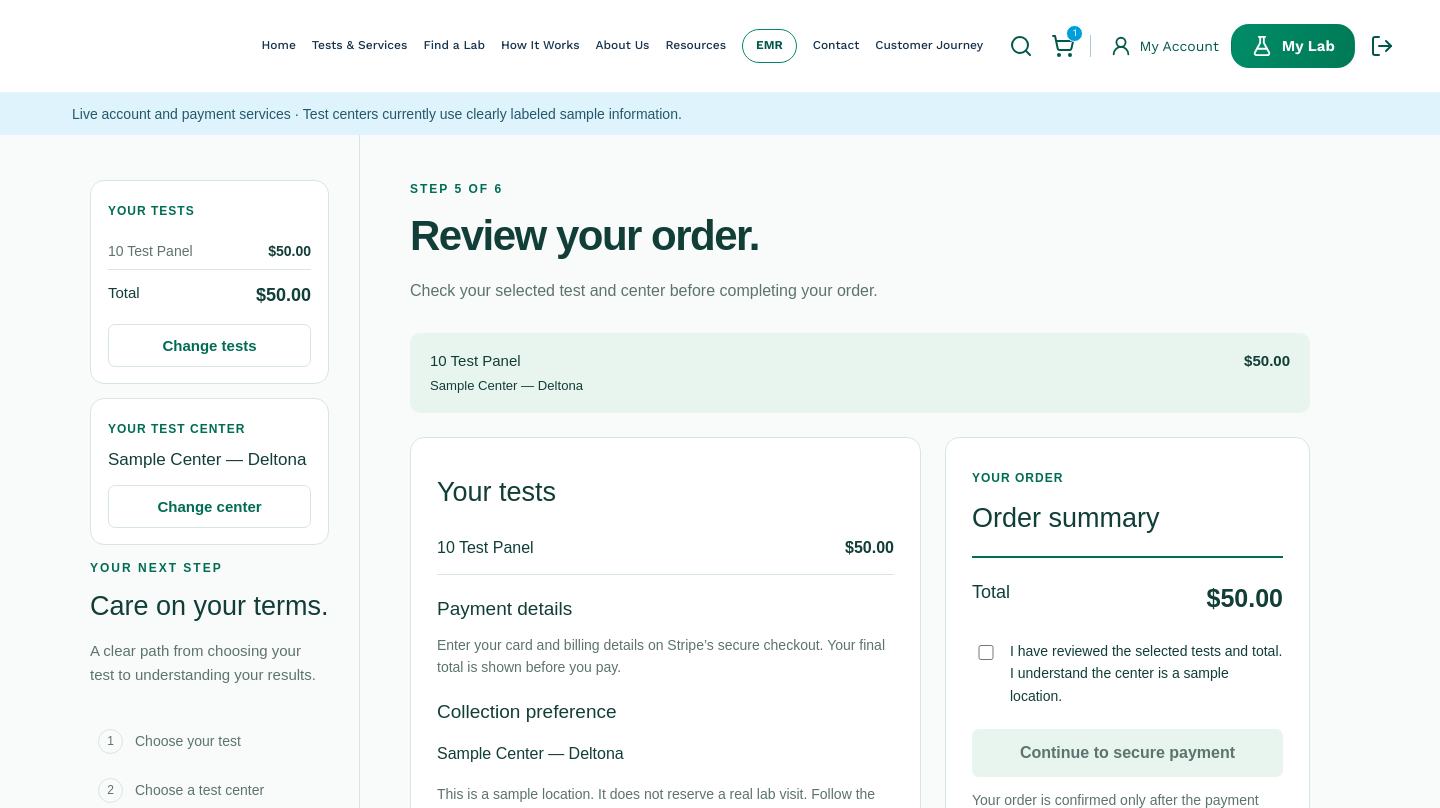
checkout requires another review after the price changes
Click the checkbox.
click(986, 652)  # box [977,645,995,660]
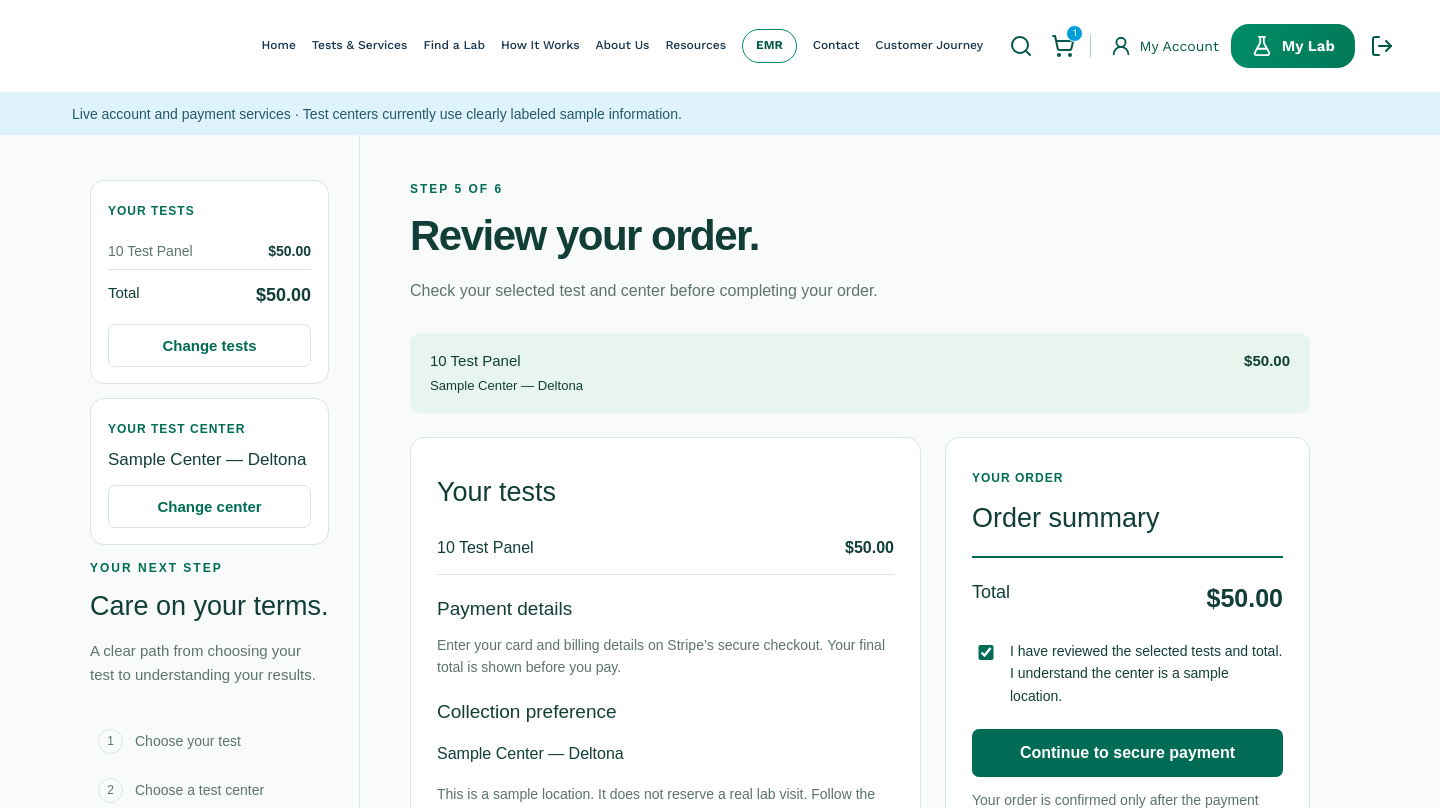
Click the button "Continue to secure payment".
click(1128, 753)  # box [972,729,1283,777]
(page scrolled)
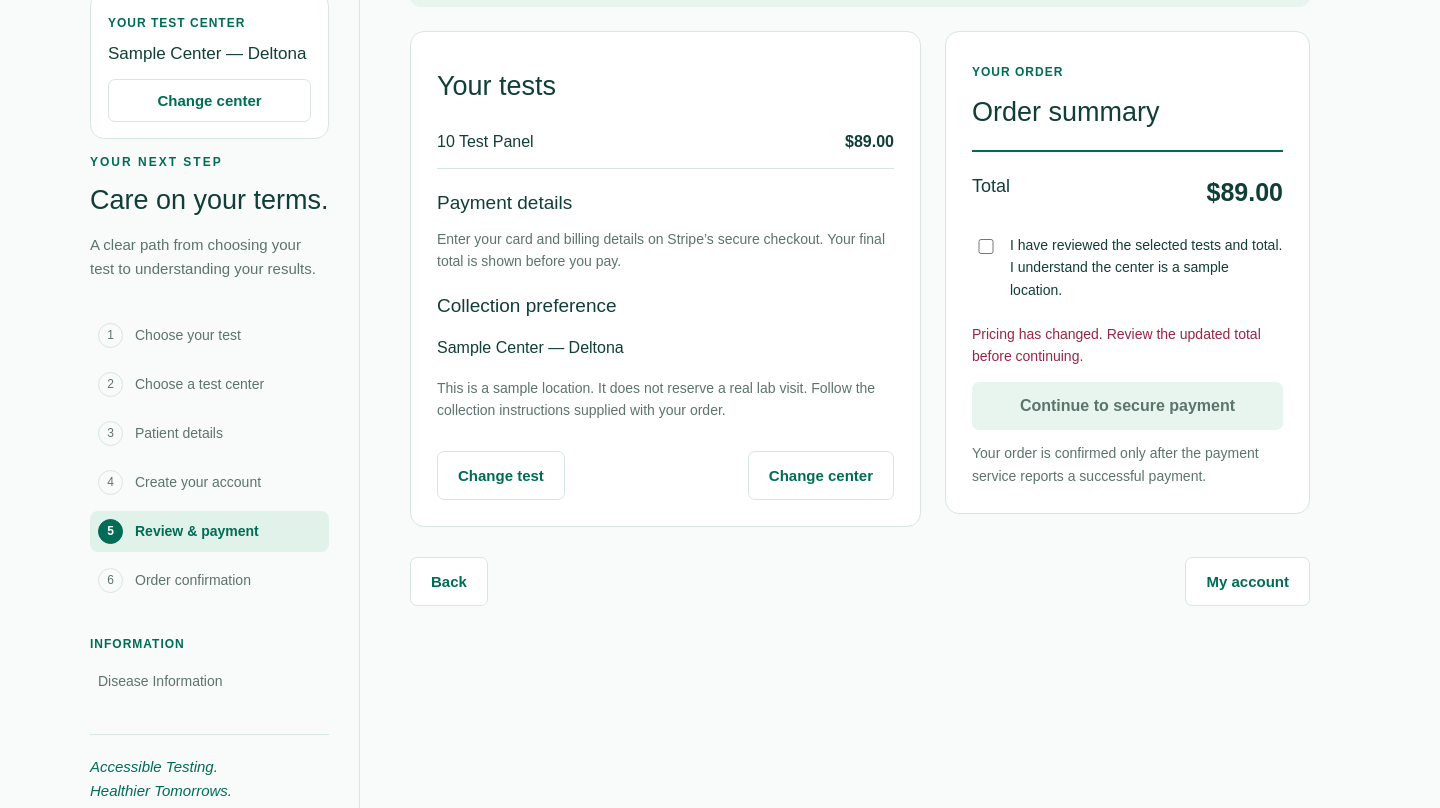
Now the text "Pricing has changed" is shown, box [972,326,1261,364]
Now the button "Continue to secure payment" is disabled, box [972,382,1283,430]
